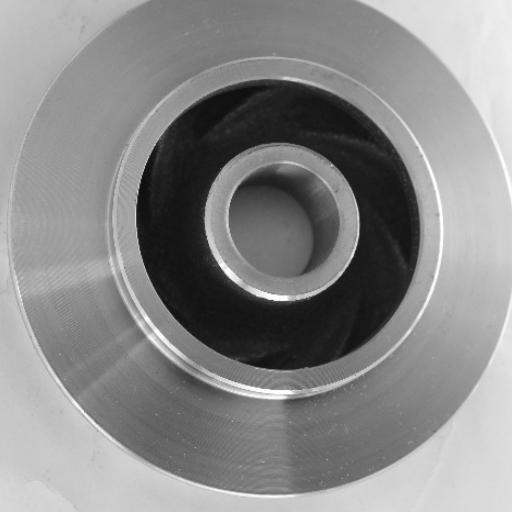polished_casting: (13, 0, 512, 499)
